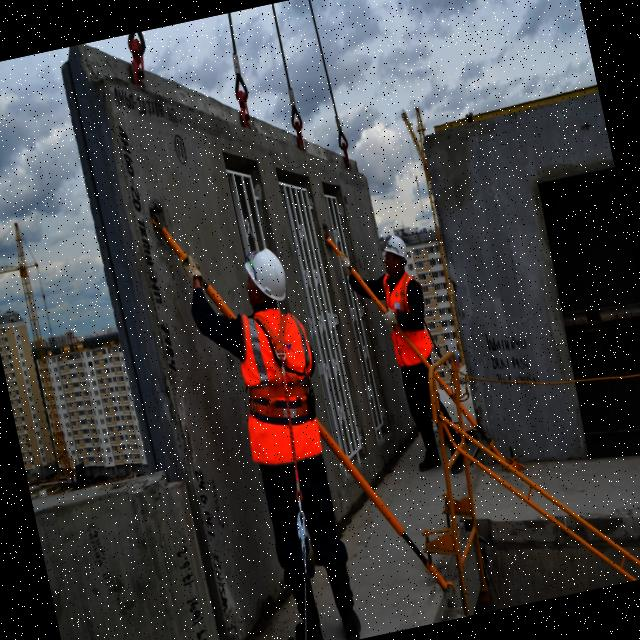Helmet: (239, 247, 292, 310), (380, 235, 411, 267)
Jacket: (228, 294, 328, 465), (380, 262, 431, 368)
